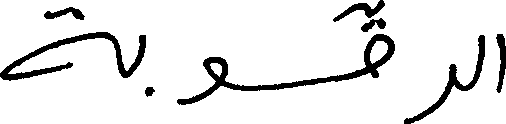ا: (493, 32, 503, 94)
ب: (131, 32, 158, 96)
ة: (0, 4, 106, 81)
ر: (405, 62, 457, 122)
ق: (361, 0, 395, 79)
ل: (472, 32, 485, 86)
و: (174, 55, 227, 105)
